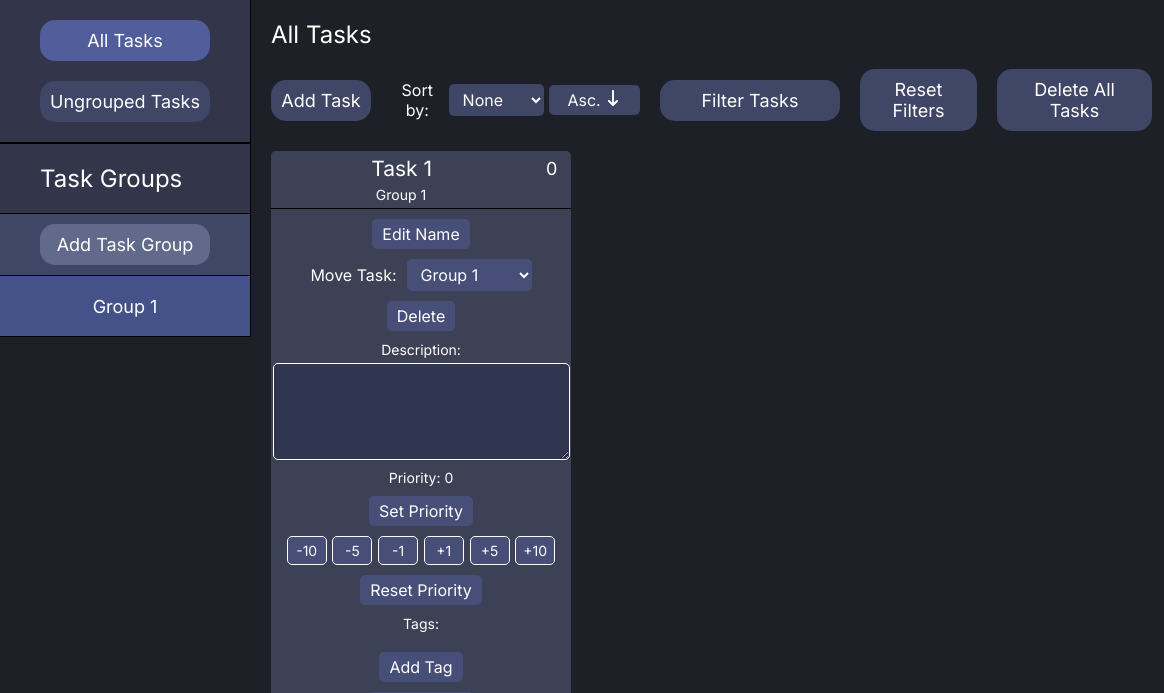
Test: MainPage › Ability to move tasks between groups › Move a task to ungrouped tasks while in all tasks
Select "Ungrouped" in the dropdown with test id "move-task-select-id1". click: (469, 275)
box: [407, 259, 532, 291]
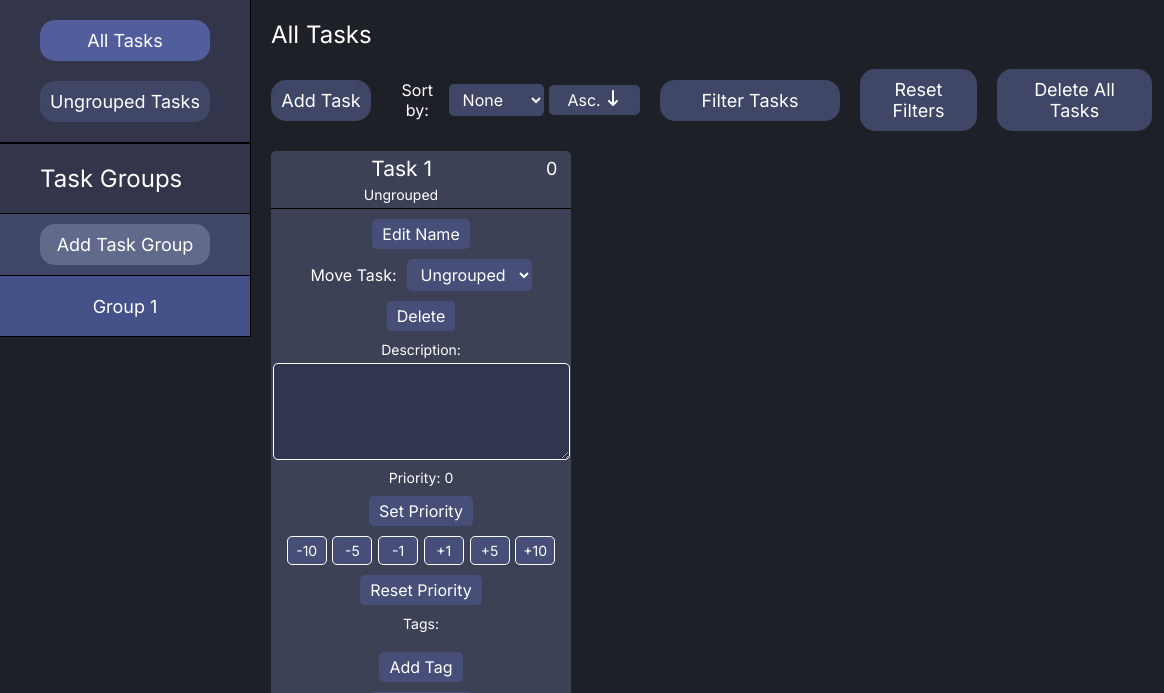
Check: the button "All Tasks" is shown, box [40, 20, 210, 61]
Check: the text with test id "task-component-group-name-id1" reads "Ungrouped", box [364, 186, 438, 203]
